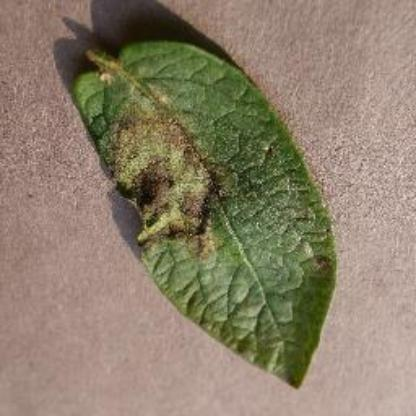Late-Blight: (58, 28, 350, 397)
